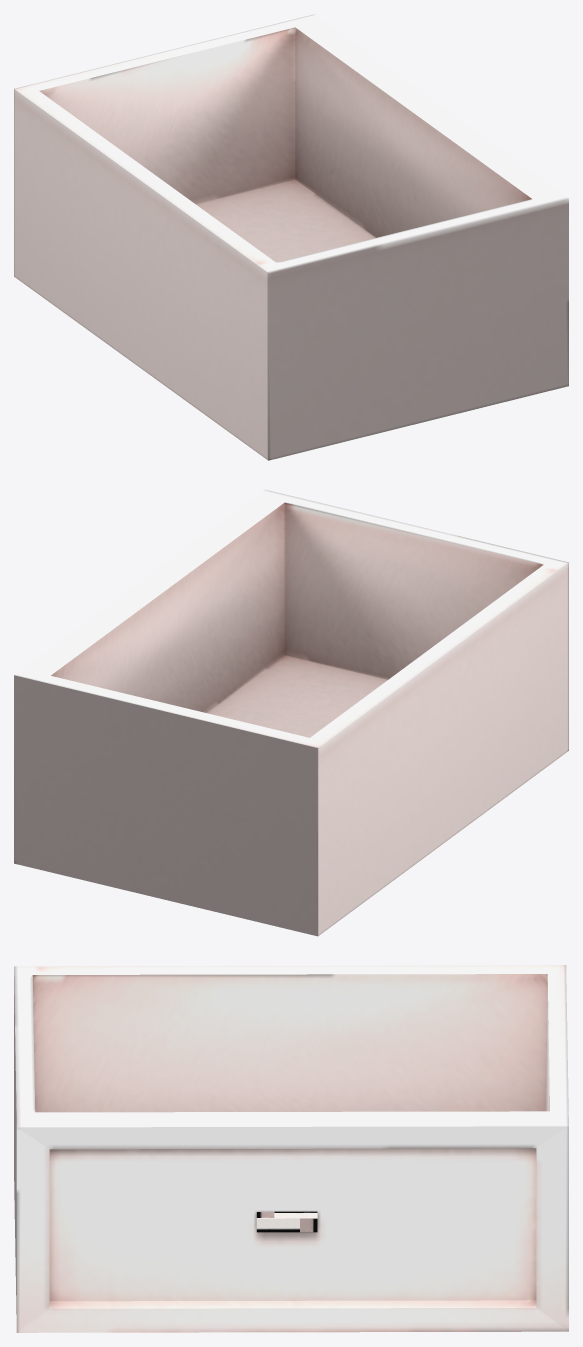
File: drawer1.glb
The picture shows the model from 3 angles, top to bottom: view 1: azimuth 30°, elevation 25°; view 2: azimuth 150°, elevation 25°; view 3: azimuth 270°, elevation 25°; orthographic projection. The views are drawn at different scales.
Visible parts, largest first — view 1: frl_apartment_lower_shelf_01_part_01; view 2: frl_apartment_lower_shelf_01_part_01; view 3: frl_apartment_lower_shelf_01_part_01.
Boxes of the visible parts, box(x1,y1,x2,y2) form: frl_apartment_lower_shelf_01_part_01: box(14, 14, 568, 460); frl_apartment_lower_shelf_01_part_01: box(14, 489, 568, 936); frl_apartment_lower_shelf_01_part_01: box(14, 965, 568, 1332).
Size of the model in its own units: 0.6149 by 0.3629 by 0.8885.
Materials: 1 (1 with a texture image).
